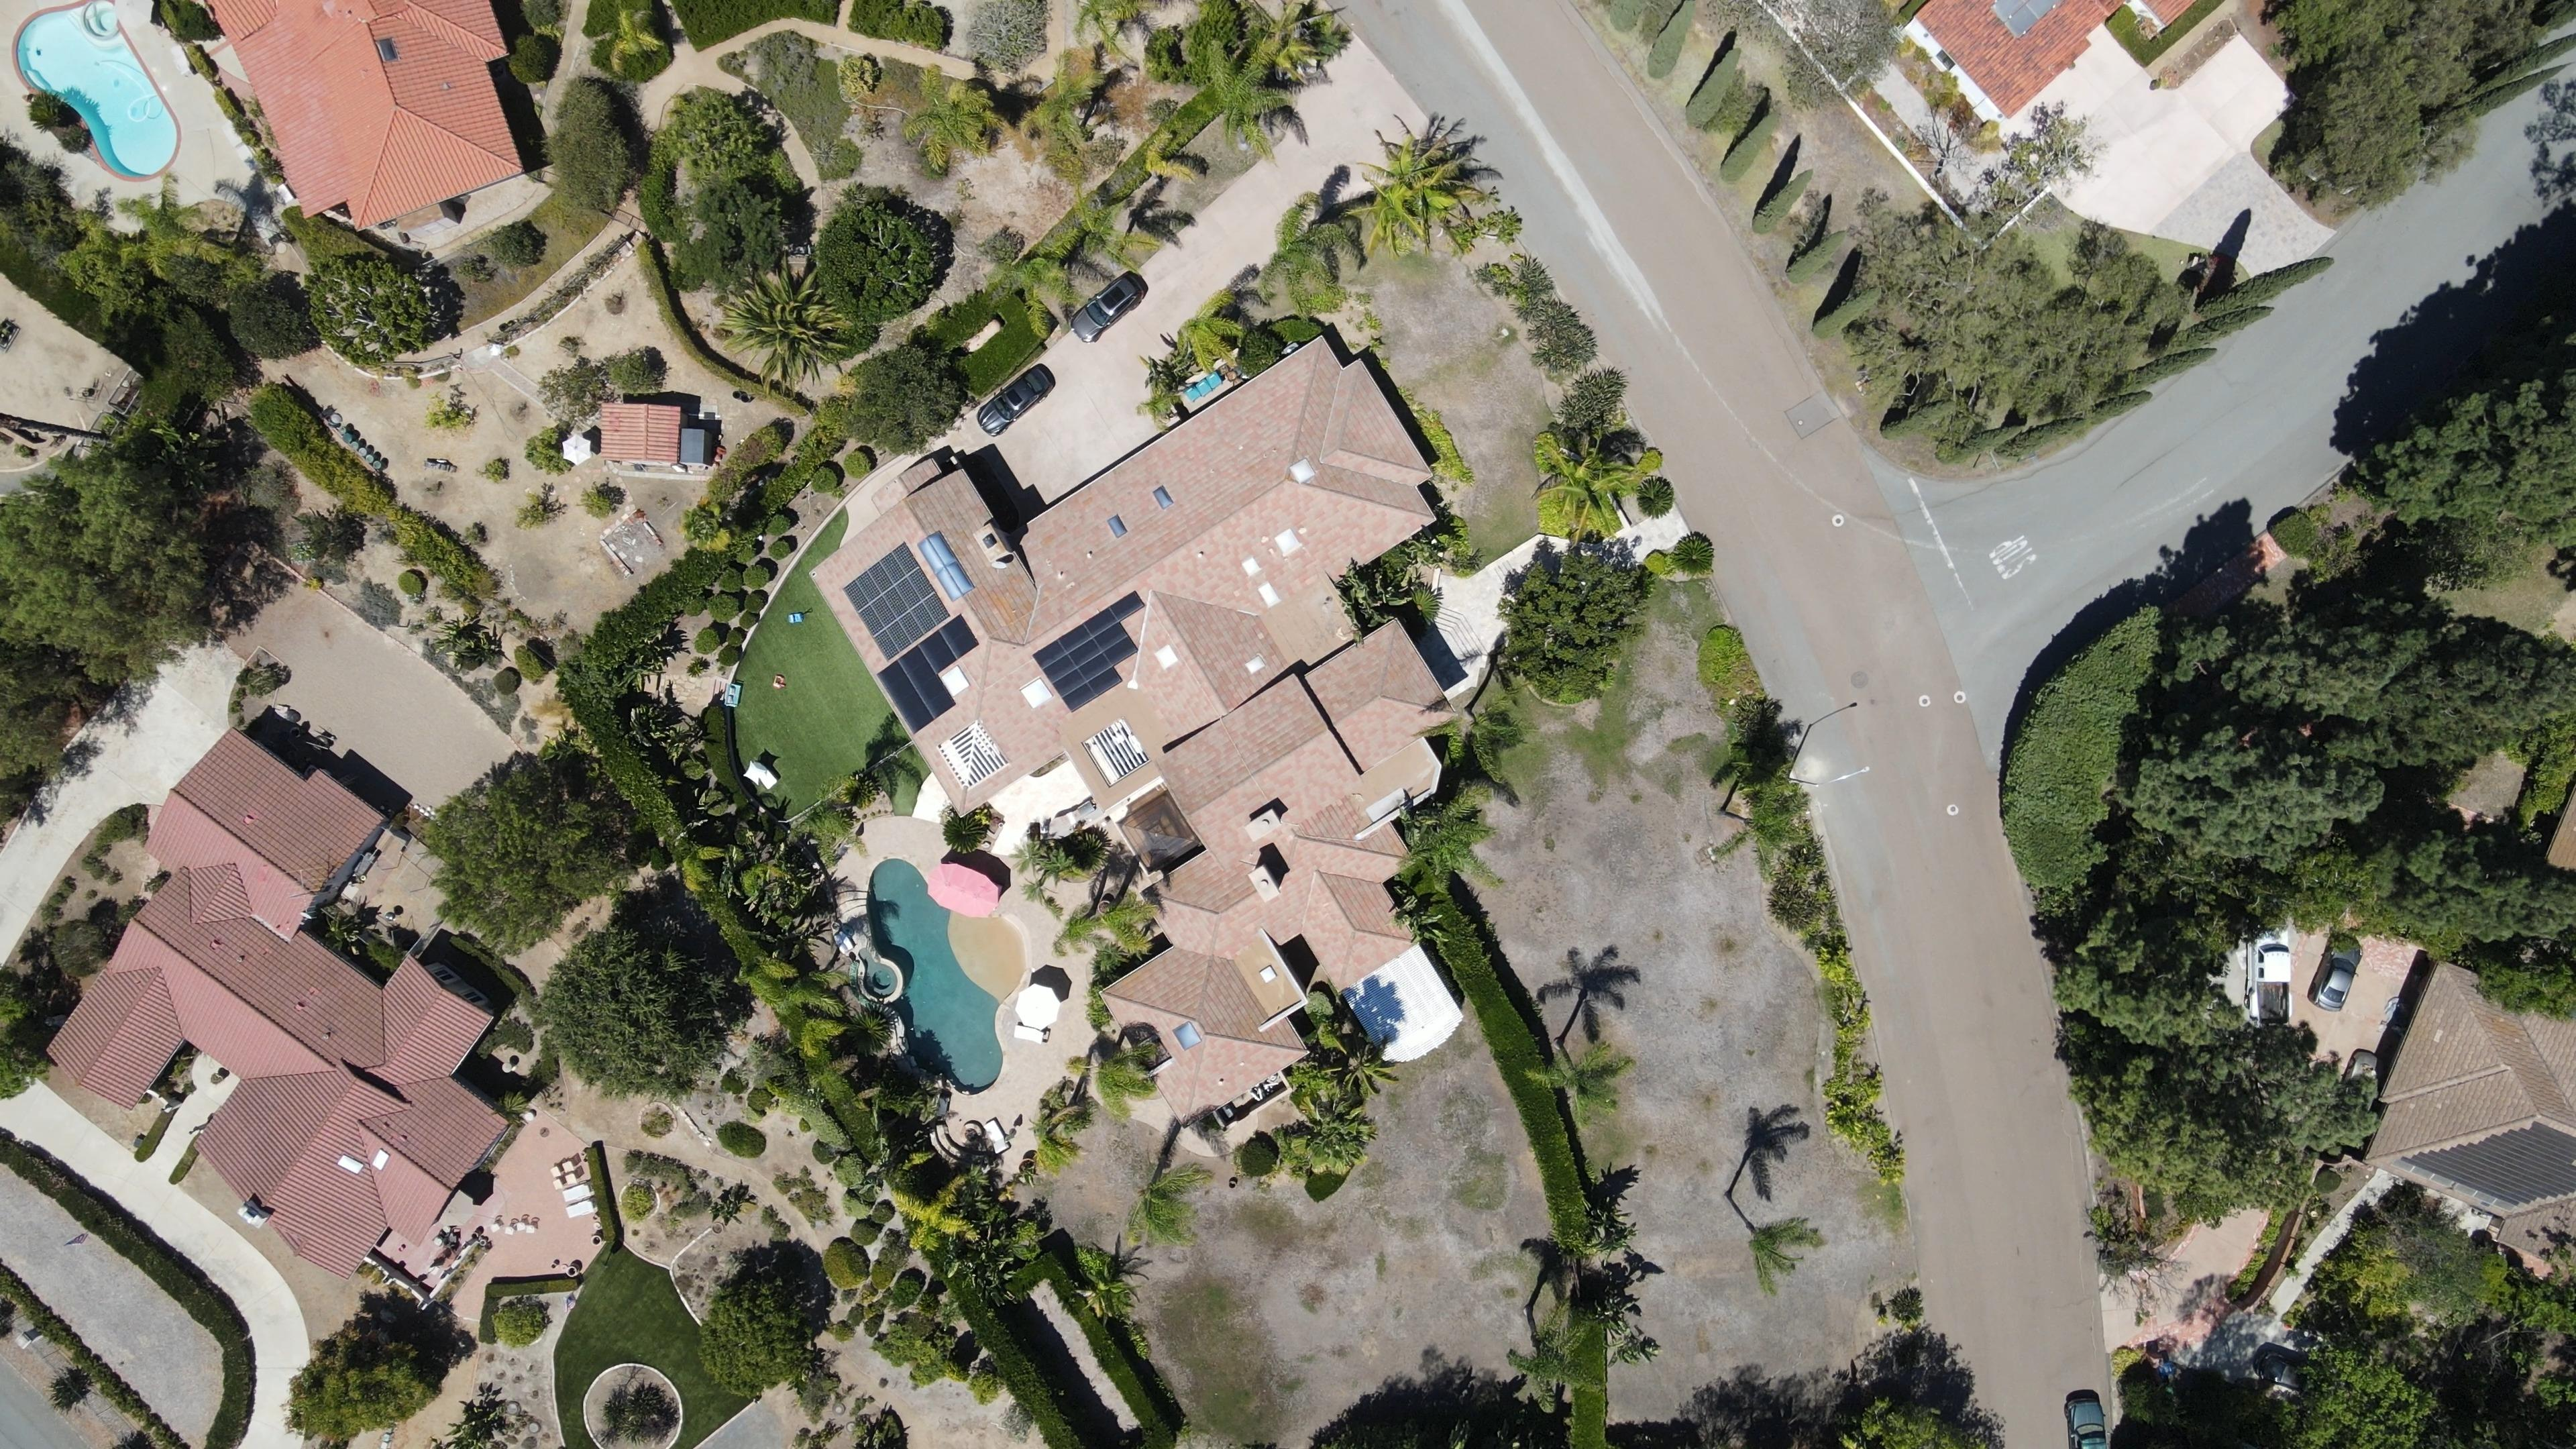panel: (2398, 1120, 2576, 1205), (1032, 590, 1146, 713), (843, 541, 950, 663), (876, 613, 979, 734)
